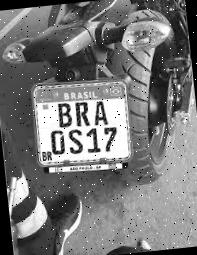placa_mercosul: (33, 79, 131, 166)
